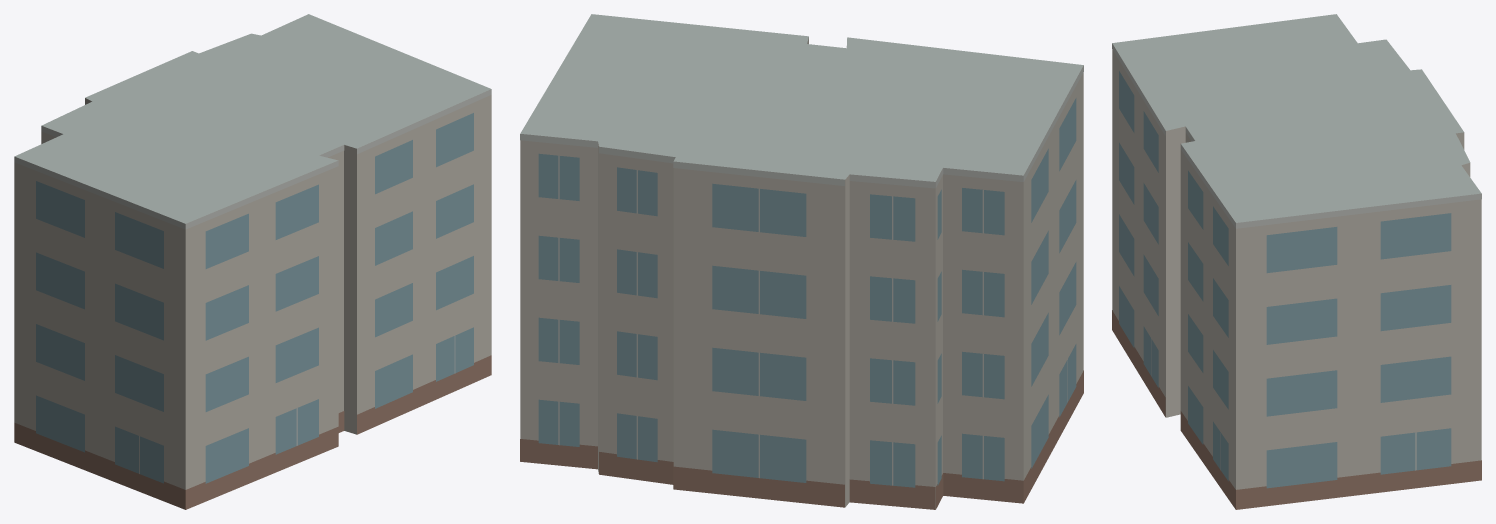
The model's file is survey-upis-32756193.glb.
The picture shows the model from 3 angles, left to right: view 1: azimuth 30°, elevation 25°; view 2: azimuth 150°, elevation 25°; view 3: azimuth 270°, elevation 25°; orthographic projection. The views are drawn at different scales.
Parts seen in each view (by area): view 1: survey-upis-32756193.tmp; view 2: survey-upis-32756193.tmp; view 3: survey-upis-32756193.tmp.
Part boxes in pixels (x1,y1,x2,y2): survey-upis-32756193.tmp: (14,14,491,509); survey-upis-32756193.tmp: (520,14,1083,509); survey-upis-32756193.tmp: (1112,14,1481,509).
Size of the model in its own units: 19.07 by 12.2 by 14.26.
